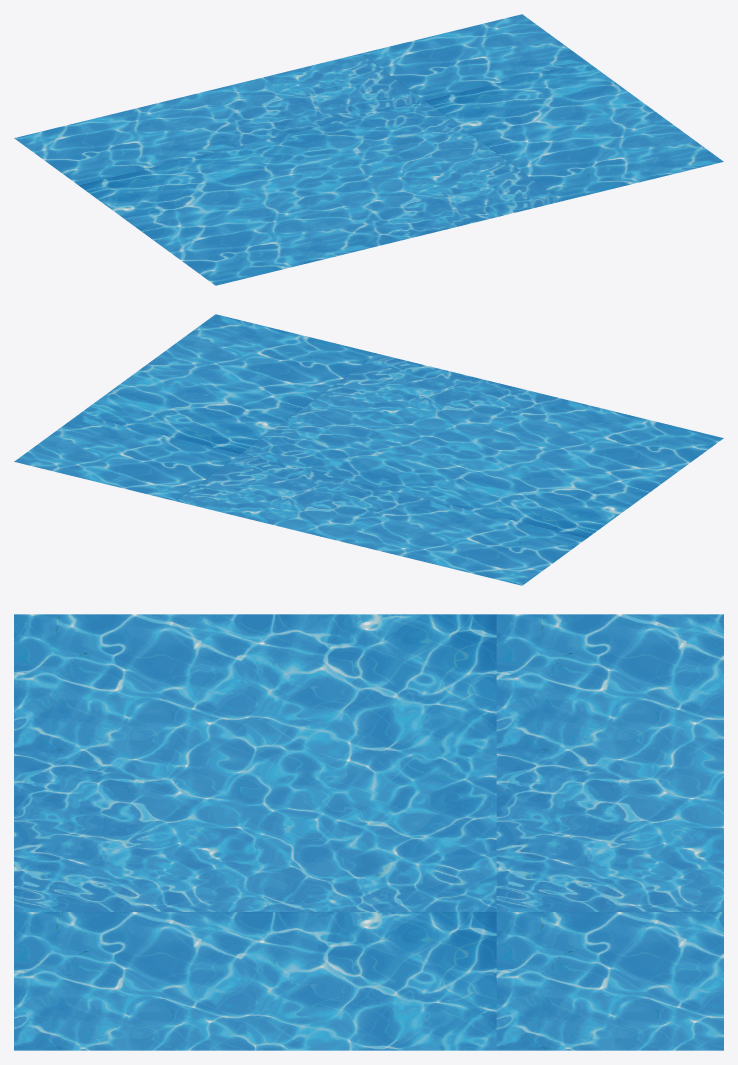
The model's file is Lago.obj.
The picture shows the model from 3 angles, top to bottom: view 1: azimuth 30°, elevation 25°; view 2: azimuth 150°, elevation 25°; view 3: azimuth 270°, elevation 25°; orthographic projection. The views are drawn at different scales.
Visible parts, largest first — view 1: Sea_pPlane1; view 2: Sea_pPlane1; view 3: Sea_pPlane1.
Part boxes in pixels (bbox=[...]): Sea_pPlane1: bbox=[14, 14, 723, 285]; Sea_pPlane1: bbox=[14, 314, 723, 585]; Sea_pPlane1: bbox=[14, 614, 723, 1050].
Bounding box in the file's own units: 94.59 × 0 × 65.01.
Materials: 1 (1 with a texture image).
